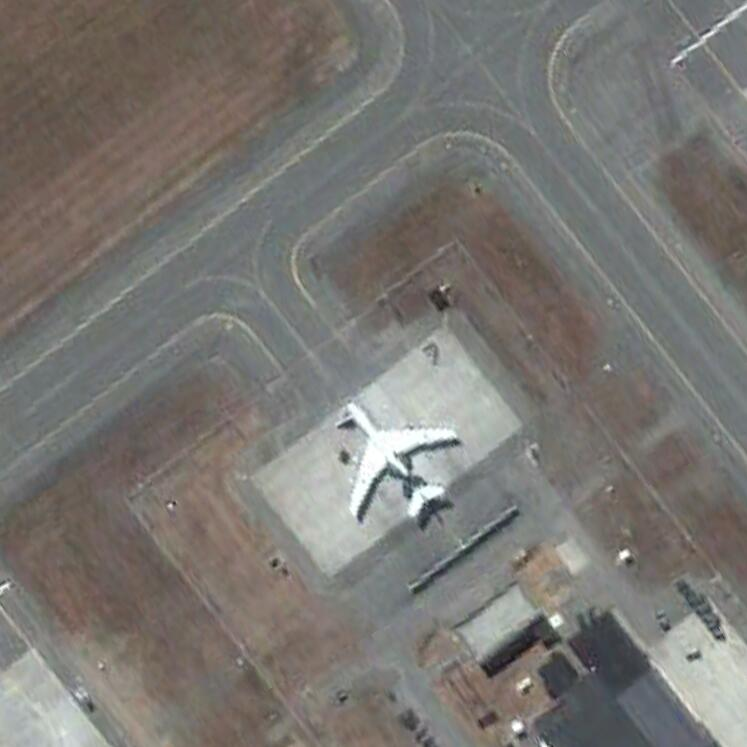A7: (334, 398, 462, 524)
